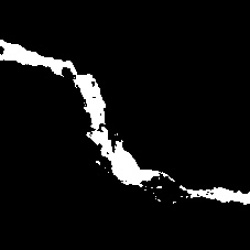crack: (1, 38, 249, 208)
